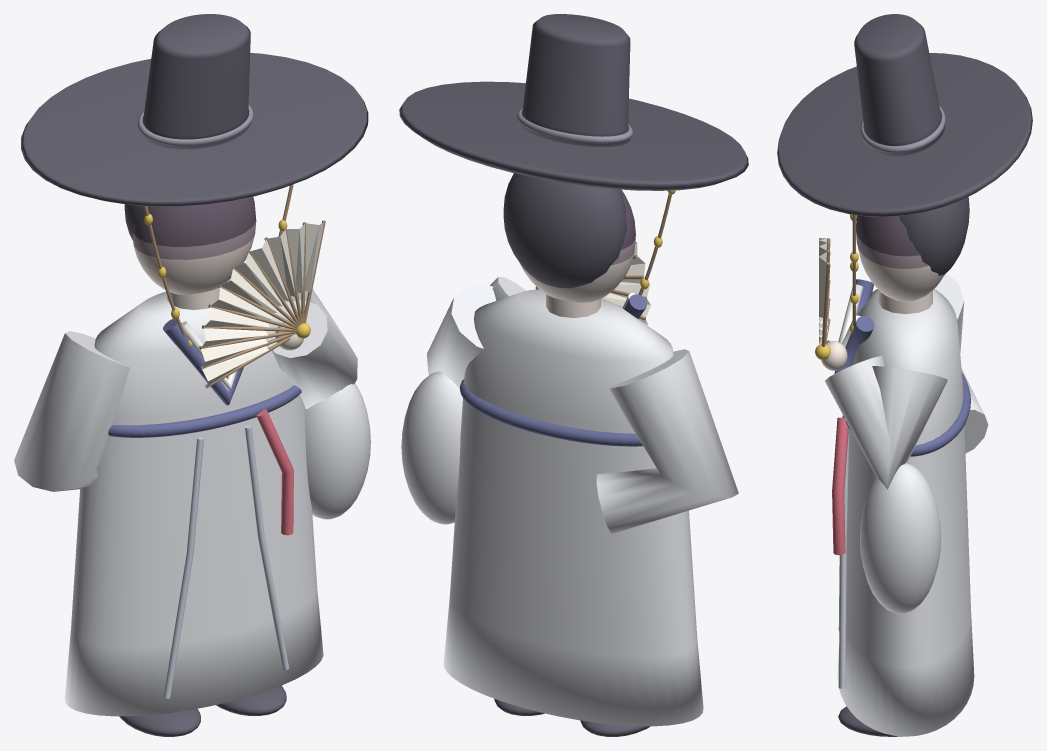
Rendered from conch_jeonwoochi_b_behind_0_0.glb.
The picture shows the model from 3 angles, left to right: view 1: azimuth 30°, elevation 25°; view 2: azimuth 150°, elevation 25°; view 3: azimuth 270°, elevation 25°; orthographic projection.
Bounding box in the file's own units: 28.25 × 55.23 × 18.85.
